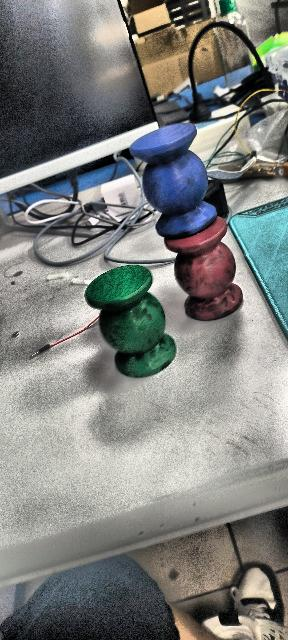blue: (129, 122, 217, 238)
green: (82, 265, 176, 379)
red: (162, 215, 244, 323)
